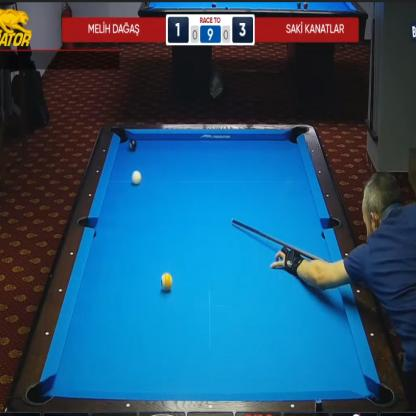Ball: (160, 273, 172, 291), (131, 170, 141, 184), (128, 138, 137, 151)
